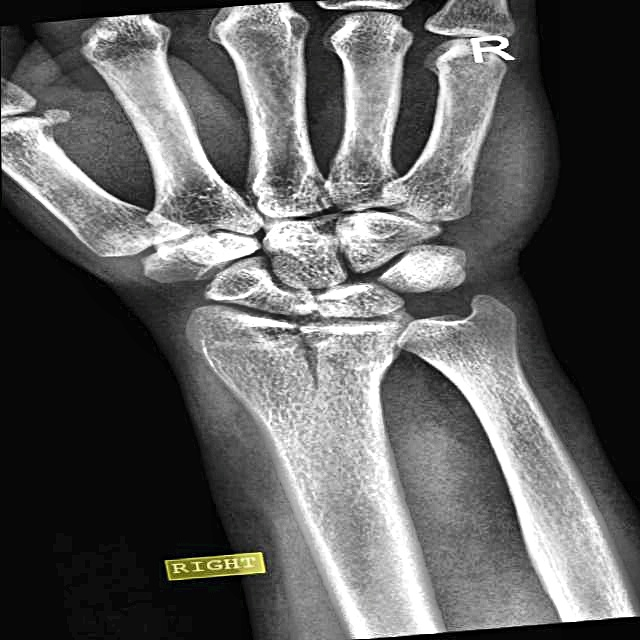Linear: (251, 304, 361, 404)
